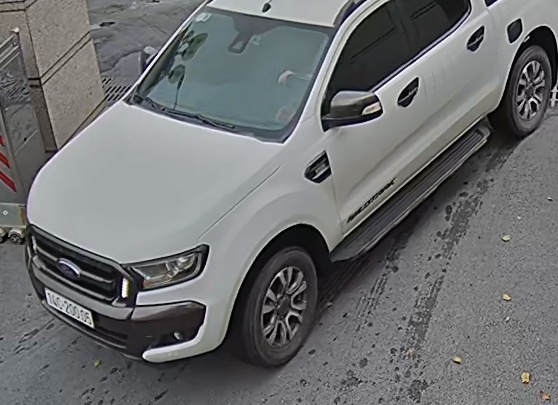vehicle plate: (39, 284, 95, 329)
